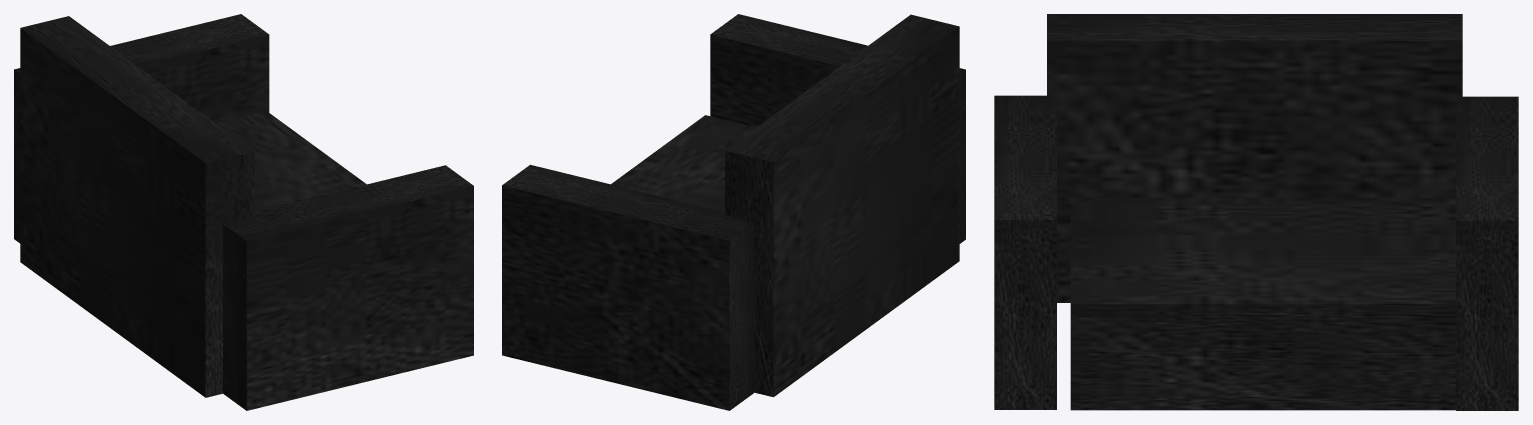
The model's file is sofa_hitam.gltf.
3 views of the same model, side by side, from view 1: azimuth 30°, elevation 25°; view 2: azimuth 150°, elevation 25°; view 3: azimuth 270°, elevation 25° (orthographic). The views are drawn at different scales.
Parts seen in each view (by area): view 1: Cube.002, Cube.001, Cube, Cube.004; view 2: Cube.002, Cube, Cube.001, Cube.004; view 3: Cube.004, Cube.002, Cube, Cube.001.
Part boxes in pixels (x1,y1,x2,y2): Cube.002: [20, 16, 254, 397]; Cube.001: [223, 165, 473, 410]; Cube: [14, 14, 269, 243]; Cube.004: [216, 111, 366, 211]; Cube.002: [725, 14, 959, 397]; Cube: [502, 164, 754, 410]; Cube.001: [710, 14, 965, 243]; Cube.004: [611, 115, 770, 396]; Cube.004: [1070, 197, 1455, 410]; Cube.002: [1047, 14, 1462, 302]; Cube: [1456, 96, 1518, 410]; Cube.001: [994, 95, 1056, 409].
Size of the model in its own units: 1.52 by 1.39 by 2.5.
Materials: 4 (4 with a texture image).
